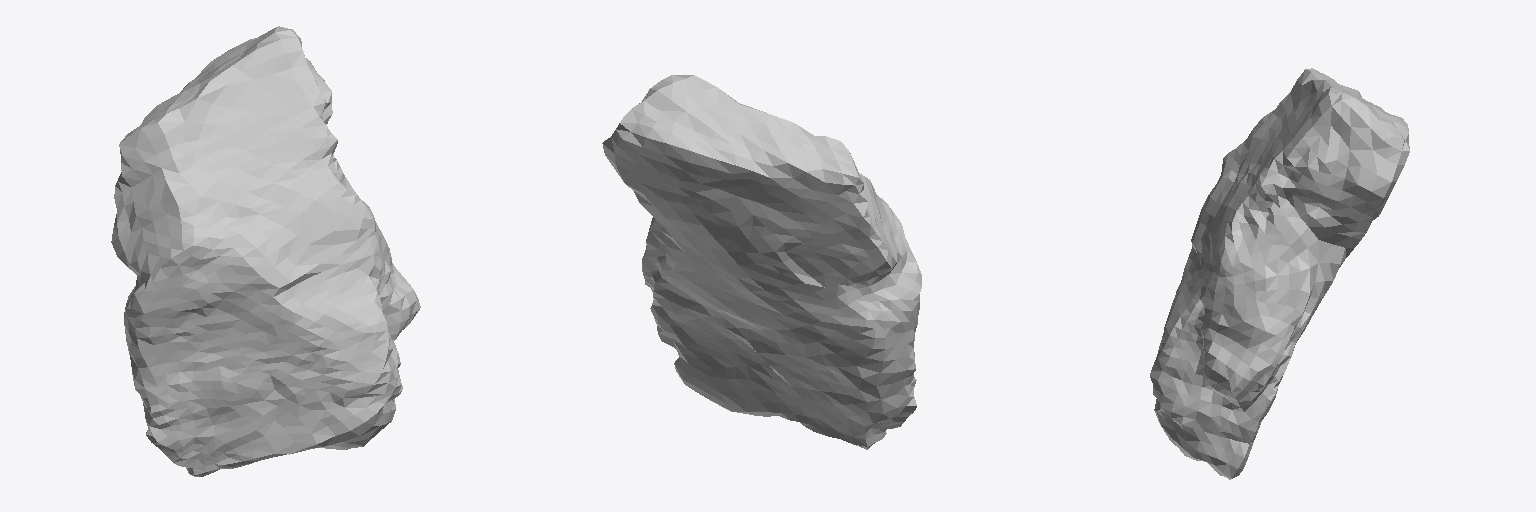
File: stone.obj
3 renders of one model, left to right at view 1: azimuth 30°, elevation 25°; view 2: azimuth 150°, elevation 25°; view 3: azimuth 270°, elevation 25°, orthographic.
Parts seen in each view (by area): view 1: stone; view 2: stone; view 3: stone.
Part boxes in pixels (left/top/right/bottom): stone: left=111, top=26, right=420, bottom=476; stone: left=602, top=75, right=921, bottom=449; stone: left=1150, top=68, right=1409, bottom=479.
Size of the model in its own units: 5.52 by 7.04 by 4.42.